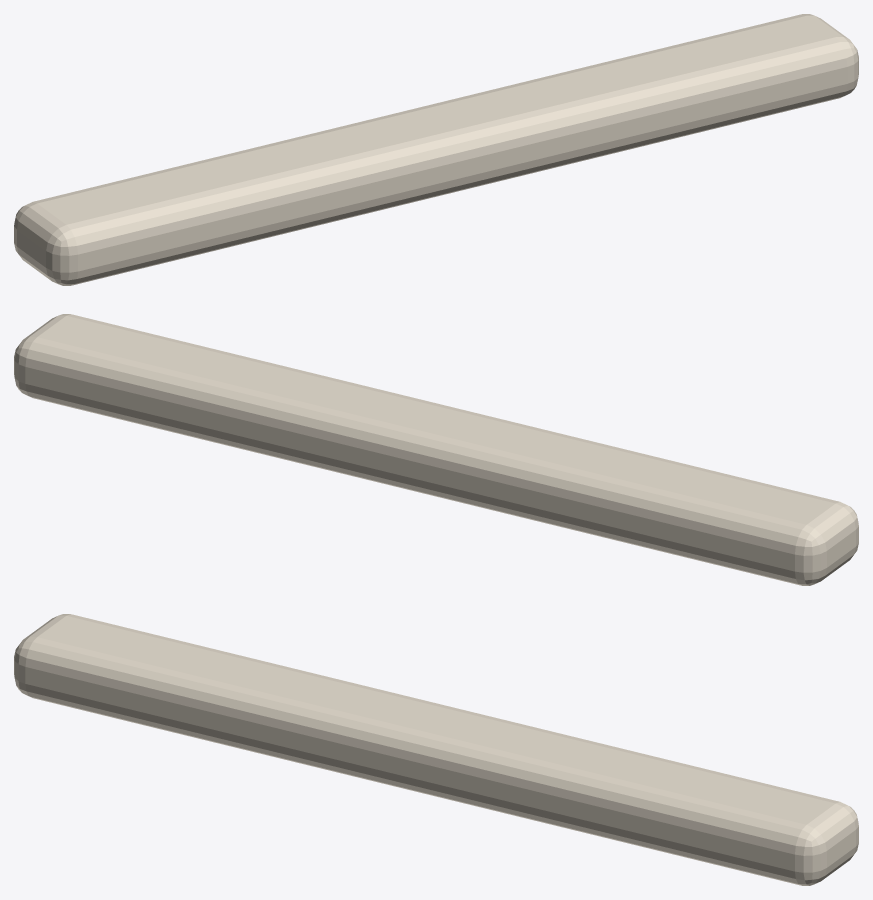
3 renders of one model, top to bottom at view 1: azimuth 30°, elevation 25°; view 2: azimuth 150°, elevation 25°; view 3: azimuth 330°, elevation 25°, orthographic.
Visible parts, largest first — view 1: LOD0_PLAZA_EDGE_STRAIGHT_4M_Curb; view 2: LOD0_PLAZA_EDGE_STRAIGHT_4M_Curb; view 3: LOD0_PLAZA_EDGE_STRAIGHT_4M_Curb.
Boxes of the visible parts, <box> form: LOD0_PLAZA_EDGE_STRAIGHT_4M_Curb: <box>14,14,858,285</box>; LOD0_PLAZA_EDGE_STRAIGHT_4M_Curb: <box>14,314,858,585</box>; LOD0_PLAZA_EDGE_STRAIGHT_4M_Curb: <box>14,614,858,885</box>.
Size of what is drawn, in the model's own units: 4 by 0.28 by 0.45.
